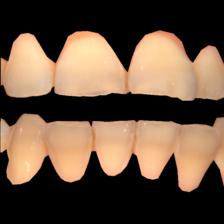cavity: (48, 62, 58, 87), (73, 33, 100, 42), (123, 71, 134, 93), (89, 130, 99, 150), (42, 139, 51, 157)
tooth: (129, 26, 192, 101), (55, 31, 123, 96), (8, 33, 55, 97), (5, 114, 47, 185), (178, 123, 218, 193), (48, 121, 92, 182), (91, 121, 138, 175), (136, 120, 179, 179), (192, 45, 224, 100)
